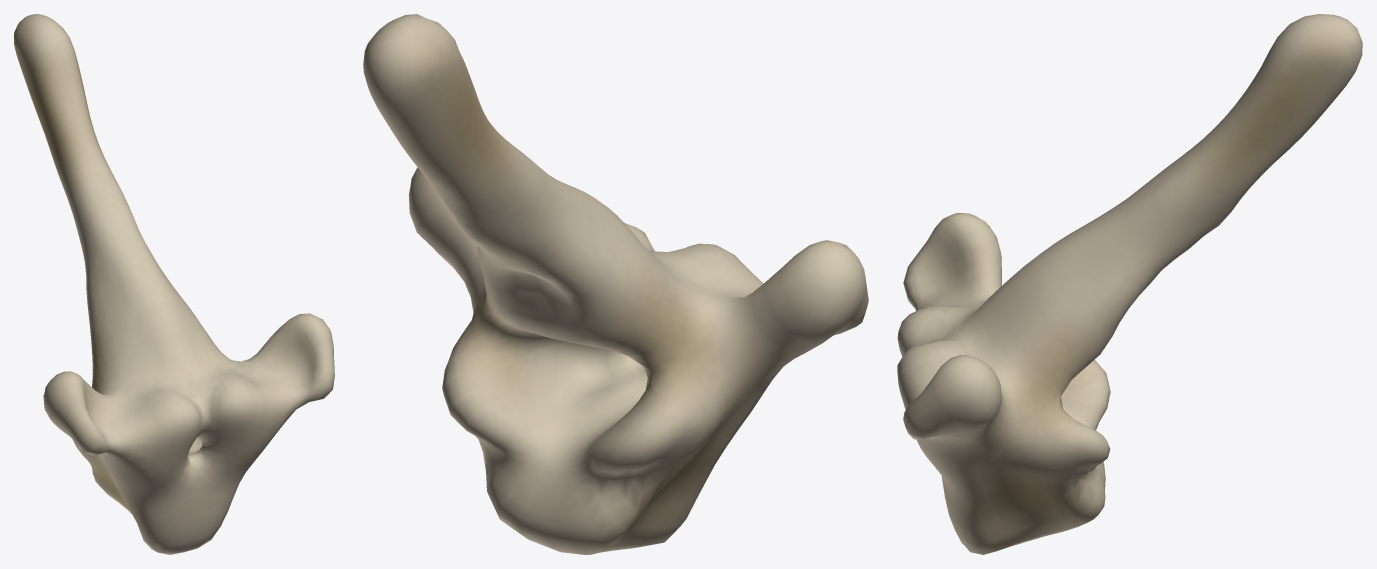
File: vertebrae thoracicae 06.fbx
3 views of the same model, side by side, from view 1: azimuth 30°, elevation 25°; view 2: azimuth 150°, elevation 25°; view 3: azimuth 270°, elevation 25° (orthographic). The views are drawn at different scales.
Visible parts, largest first — view 1: vertebrae thoracicae 06; view 2: vertebrae thoracicae 06; view 3: vertebrae thoracicae 06.
Part boxes in pixels (x1,y1,x2,y2): vertebrae thoracicae 06: (14,14,334,554); vertebrae thoracicae 06: (363,14,868,554); vertebrae thoracicae 06: (897,14,1362,554).
Bounding box in the file's own units: 9.18 × 13.47 × 10.73.
